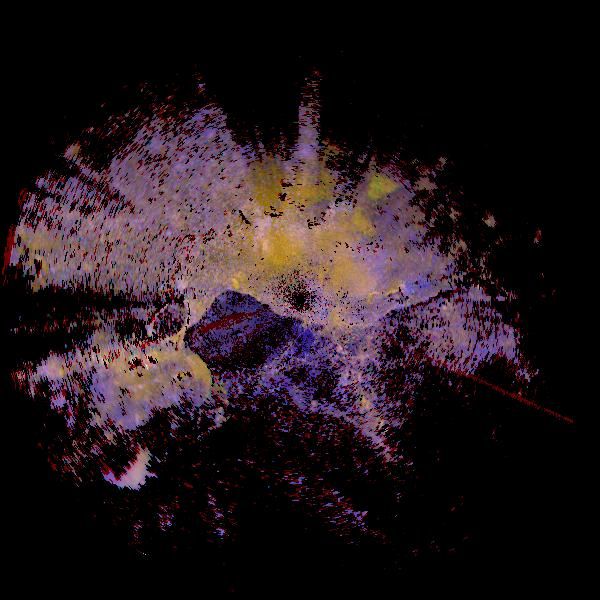roost: (90, 426, 156, 492), (327, 246, 384, 303), (167, 355, 215, 403), (263, 228, 311, 276), (101, 370, 143, 412)
